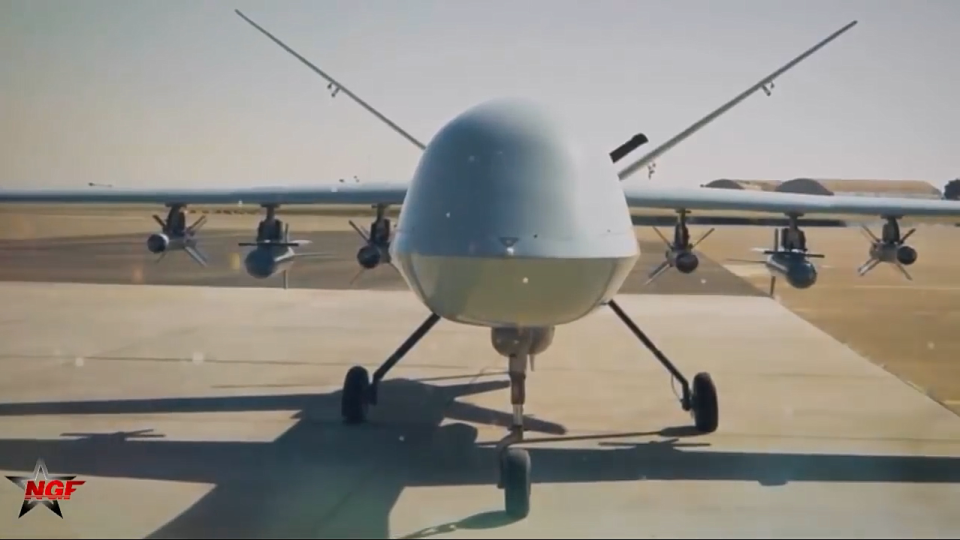military drone: (0, 9, 960, 518)
